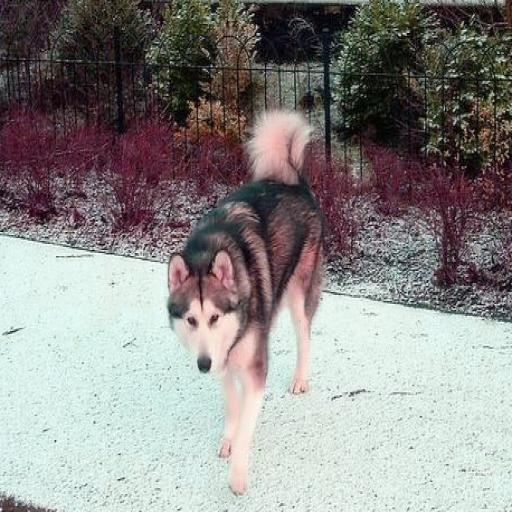dog_face: (161, 240, 243, 389)
